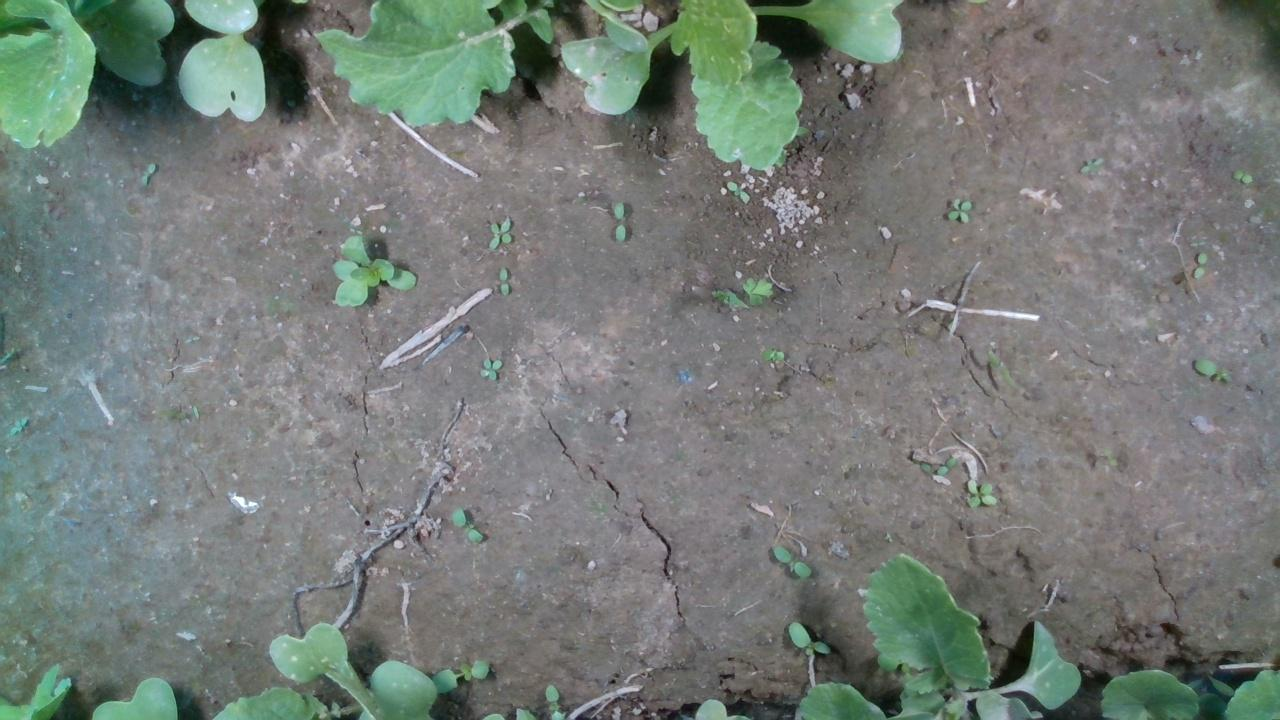weed: (711, 275, 775, 308), (786, 619, 832, 655), (769, 543, 813, 577), (447, 506, 481, 542), (1193, 357, 1233, 381), (965, 478, 998, 506), (485, 218, 514, 248), (610, 198, 628, 243), (944, 195, 971, 224), (477, 357, 501, 379), (723, 180, 748, 201), (137, 162, 157, 186), (1191, 251, 1208, 278), (497, 264, 510, 297), (1079, 155, 1104, 172), (760, 346, 783, 362), (1231, 169, 1254, 184)
